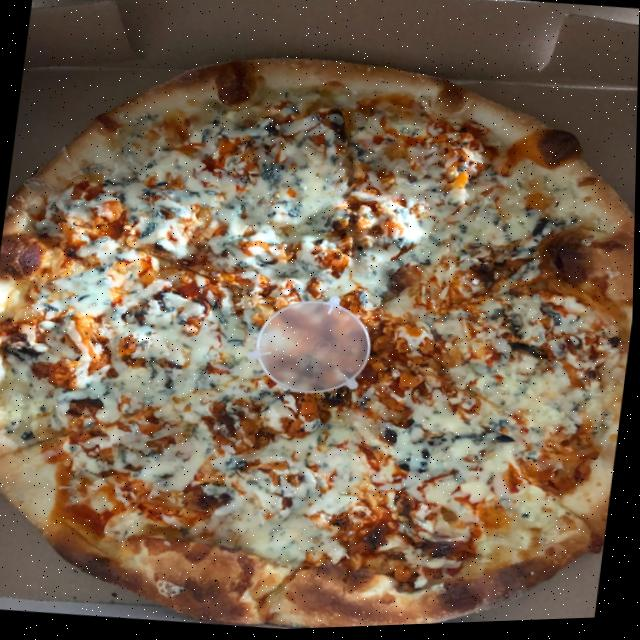pizza: (0, 17, 639, 640)
